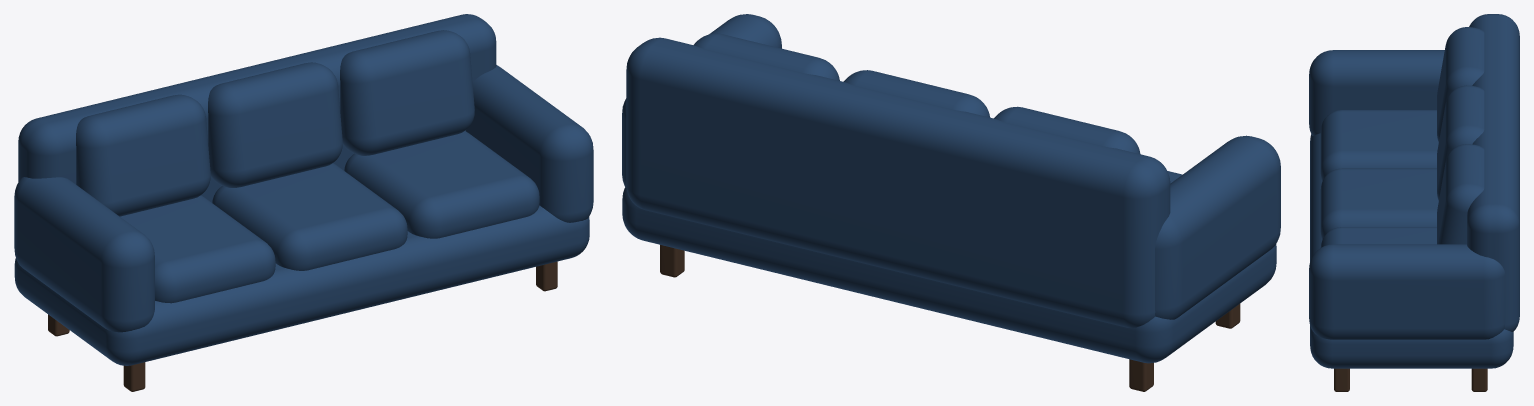
Rendered from sofa_no_pillows_navy_blue.glb.
The picture shows the model from 3 angles, left to right: view 1: azimuth 30°, elevation 25°; view 2: azimuth 150°, elevation 25°; view 3: azimuth 270°, elevation 25°; orthographic projection. The views are drawn at different scales.
Parts seen in each view (by area): view 1: Upholstered foundation, Rounded padded arm, Plush back cushion.002, Plush back cushion.001, Plush back cushion, Seat cushion.002, Seat cushion.001, Rounded padded arm.001, Padded back frame, Seat cushion, Walnut foot, Walnut foot.002; view 2: Padded back frame, Upholstered foundation, Rounded padded arm, Plush back cushion.001, Plush back cushion.002, Plush back cushion, Rounded padded arm.001, Walnut foot.001, Walnut foot.003; view 3: Rounded padded arm.001, Padded back frame, Rounded padded arm, Upholstered foundation, Seat cushion, Seat cushion.001, Plush back cushion.002, Plush back cushion.001, Plush back cushion, Seat cushion.002, Walnut foot.003, Walnut foot.002.
Boxes of the visible parts, x1=… form: Upholstered foundation: x1=14, y1=205, x2=589, y2=365; Rounded padded arm: x1=14, y1=177, x2=154, y2=332; Plush back cushion.002: x1=340, y1=30, x2=474, y2=155; Plush back cushion.001: x1=208, y1=62, x2=342, y2=187; Plush back cushion: x1=76, y1=94, x2=210, y2=216; Seat cushion.002: x1=344, y1=131, x2=539, y2=238; Seat cushion.001: x1=212, y1=163, x2=407, y2=270; Rounded padded arm.001: x1=466, y1=65, x2=593, y2=222; Padded back frame: x1=18, y1=14, x2=496, y2=202; Seat cushion: x1=120, y1=195, x2=275, y2=303; Walnut foot: x1=123, y1=362, x2=145, y2=391; Walnut foot.002: x1=536, y1=261, x2=557, y2=291; Padded back frame: x1=626, y1=37, x2=1170, y2=328; Upholstered foundation: x1=622, y1=187, x2=1276, y2=363; Rounded padded arm: x1=1155, y1=135, x2=1280, y2=319; Plush back cushion.001: x1=843, y1=70, x2=990, y2=117; Plush back cushion.002: x1=693, y1=33, x2=839, y2=80; Plush back cushion: x1=994, y1=106, x2=1140, y2=154; Rounded padded arm.001: x1=622, y1=14, x2=781, y2=187; Walnut foot.001: x1=1129, y1=359, x2=1153, y2=391; Walnut foot.003: x1=660, y1=245, x2=684, y2=277; Rounded padded arm.001: x1=1309, y1=244, x2=1505, y2=339; Padded back frame: x1=1467, y1=14, x2=1519, y2=331; Rounded padded arm: x1=1309, y1=50, x2=1444, y2=135; Upholstered foundation: x1=1310, y1=133, x2=1513, y2=368; Seat cushion: x1=1320, y1=110, x2=1438, y2=181; Seat cushion.001: x1=1320, y1=168, x2=1438, y2=239; Plush back cushion.002: x1=1437, y1=144, x2=1484, y2=244; Plush back cushion.001: x1=1437, y1=85, x2=1484, y2=200; Plush back cushion: x1=1437, y1=27, x2=1484, y2=142; Seat cushion.002: x1=1320, y1=227, x2=1436, y2=247; Walnut foot.003: x1=1471, y1=368, x2=1487, y2=391; Walnut foot.002: x1=1334, y1=368, x2=1349, y2=391.
Size of the model in its own units: 2.42 by 0.9999 by 0.995.
